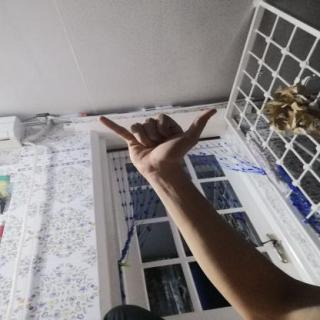YA: (90, 101, 230, 179)
